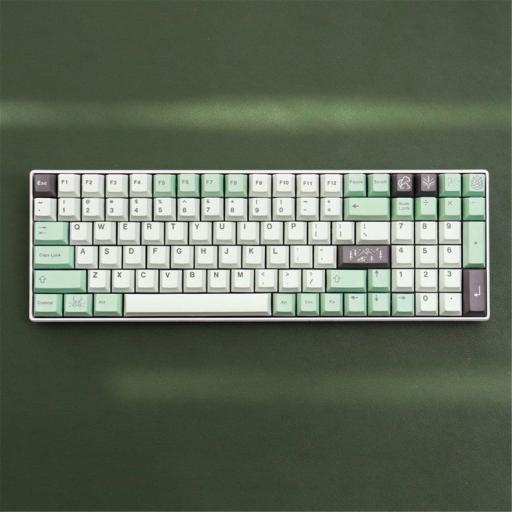KEYBOARD-2: (28, 165, 496, 327)
